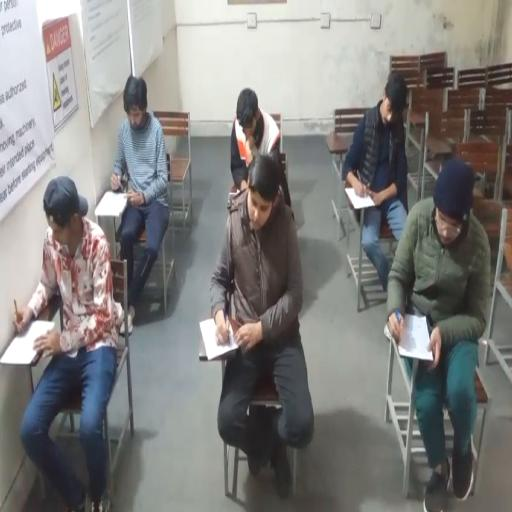paper: (0, 319, 56, 364), (199, 317, 238, 361), (95, 191, 129, 217), (344, 186, 376, 210), (399, 340, 434, 361)
